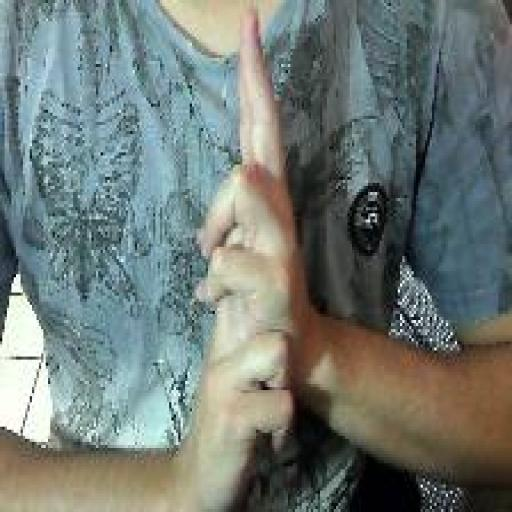Hitsuji -ram-: (193, 6, 301, 512)
